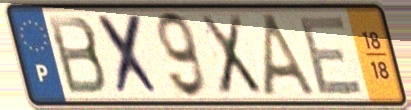9: (154, 9, 209, 102)
A: (260, 10, 324, 100)
B: (44, 13, 111, 97)
E: (297, 13, 367, 98)
X: (93, 12, 165, 99), (196, 12, 265, 98)
